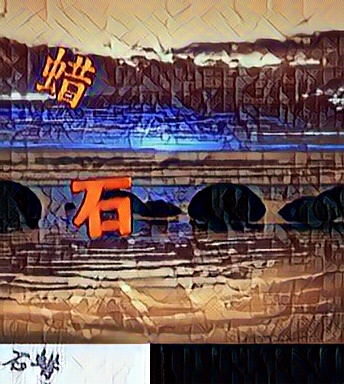C0AF: (35, 45, 96, 110)
CAAF: (71, 170, 132, 235)
